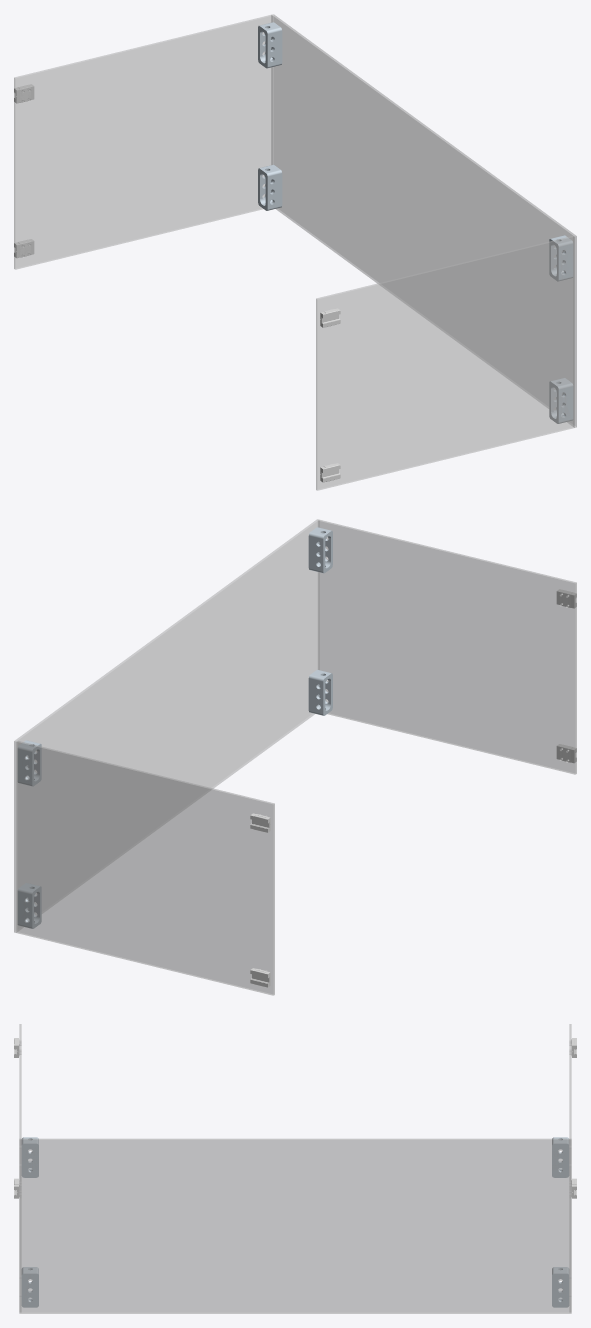
3 views of the same model, one above another, from view 1: azimuth 30°, elevation 25°; view 2: azimuth 150°, elevation 25°; view 3: azimuth 270°, elevation 25° (orthographic). The views are drawn at different scales.
Parts seen in each view (by area): view 1: NF26-HOP-PL3 (×2), NF26-HOP-PL4, NFR-00 (×4); view 2: NF26-HOP-PL3 (×2), NF26-HOP-PL4, NFR-00 (×4); view 3: NF26-HOP-PL4, NFR-00 (×4), NF26-HOP-PL3 (×2).
Part boxes in pixels (left/top/right/bottom): NF26-HOP-PL3 (×2): left=14, top=15, right=574, bottom=490; NF26-HOP-PL4: left=271, top=14, right=576, bottom=427; NFR-00 (×4): left=258, top=22, right=573, bottom=423; NF26-HOP-PL3 (×2): left=16, top=520, right=576, bottom=995; NF26-HOP-PL4: left=14, top=519, right=319, bottom=932; NFR-00 (×4): left=17, top=527, right=332, bottom=928; NF26-HOP-PL4: left=19, top=1138, right=571, bottom=1313; NFR-00 (×4): left=21, top=1137, right=569, bottom=1307; NF26-HOP-PL3 (×2): left=19, top=1024, right=571, bottom=1312.
Bounding box in the file's own units: 0.3337 × 0.235 × 0.688.
